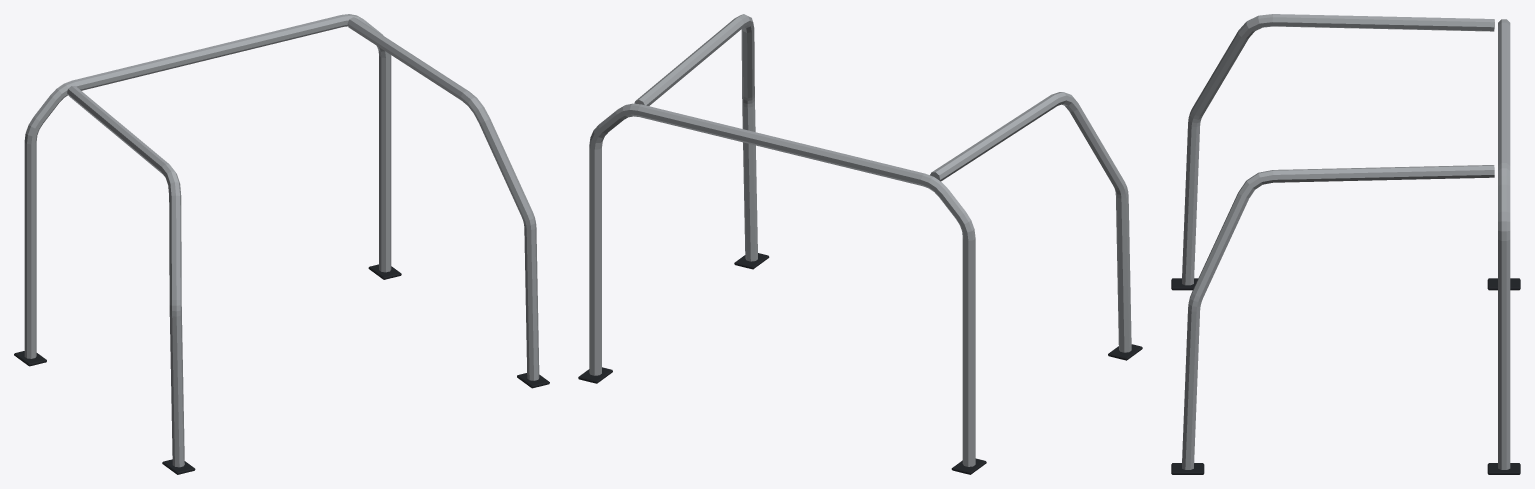
File: kaze_gt.glb
3 renders of one model, left to right at view 1: azimuth 30°, elevation 25°; view 2: azimuth 150°, elevation 25°; view 3: azimuth 270°, elevation 25°, orthographic. The views are drawn at different scales.
Visible parts, largest first — view 1: model; view 2: model; view 3: model.
Part boxes in pixels (x1,y1,x2,y2): model: (14, 14, 549, 474); model: (578, 14, 1142, 474); model: (1171, 14, 1520, 474).
Bounding box in the file's own units: 1.4 × 0.9628 × 1.07.
2 materials, 1 textured.
